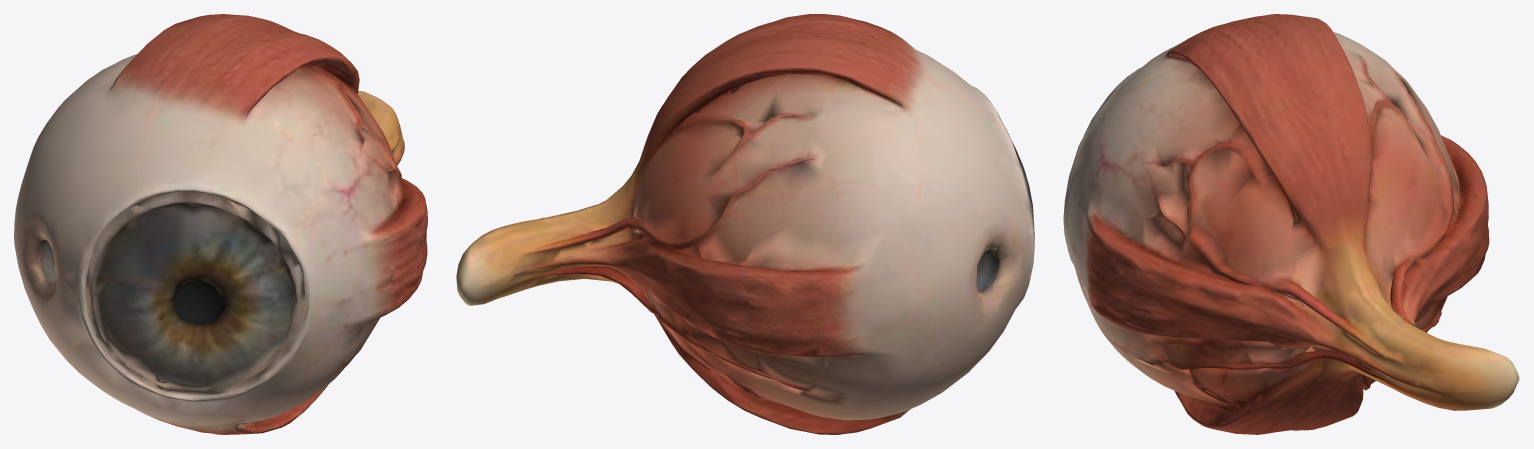
Rendered from eyeball-lod2.glb.
3 renders of one model, left to right at view 1: azimuth 30°, elevation 25°; view 2: azimuth 150°, elevation 25°; view 3: azimuth 270°, elevation 25°, orthographic. The views are drawn at different scales.
Parts seen in each view (by area): view 1: tripo_node_ebf243bf-d3b6-4331-9960-3b03130a2b84; view 2: tripo_node_ebf243bf-d3b6-4331-9960-3b03130a2b84; view 3: tripo_node_ebf243bf-d3b6-4331-9960-3b03130a2b84.
Part boxes in pixels (<box>): tripo_node_ebf243bf-d3b6-4331-9960-3b03130a2b84: <box>14,14,427,434</box>; tripo_node_ebf243bf-d3b6-4331-9960-3b03130a2b84: <box>456,14,1034,434</box>; tripo_node_ebf243bf-d3b6-4331-9960-3b03130a2b84: <box>1063,14,1519,434</box>.
Size of the model in its own units: 0.9793 by 0.8044 by 0.8529.
1 material, 1 textured.
